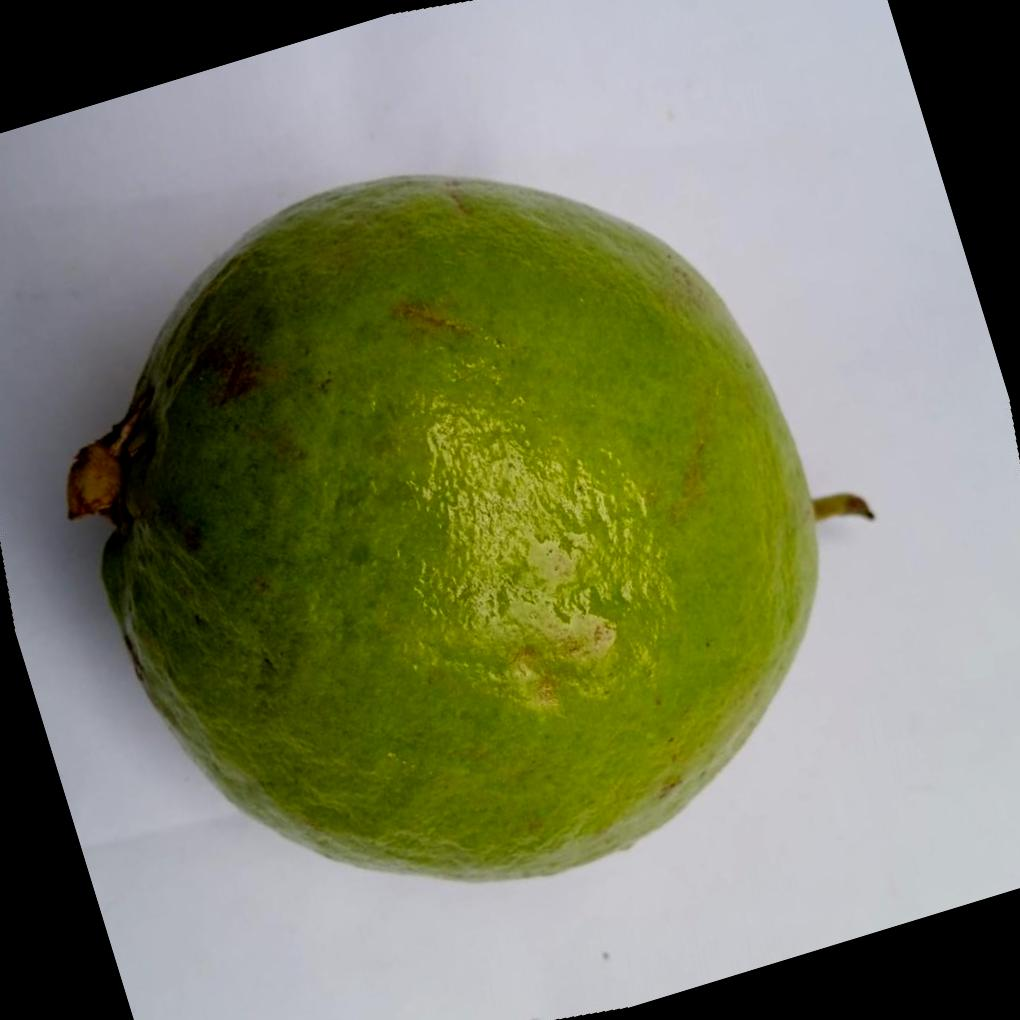FreshGuava: (62, 173, 863, 885)
